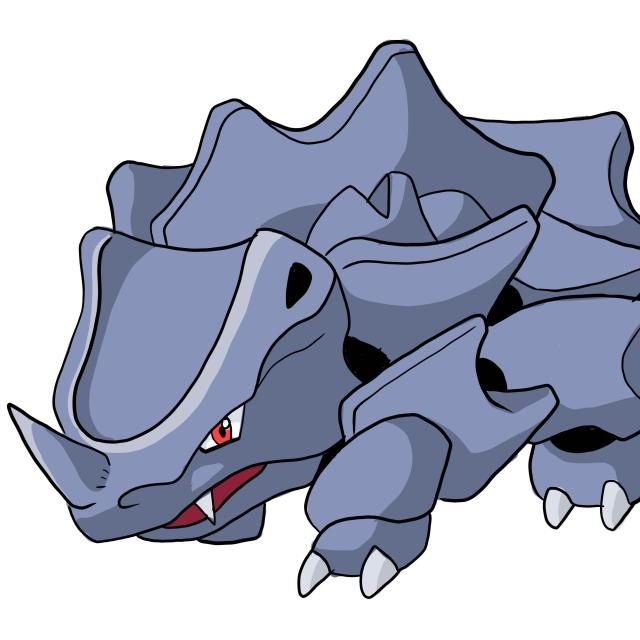Rhyhorn: (9, 106, 635, 542)
